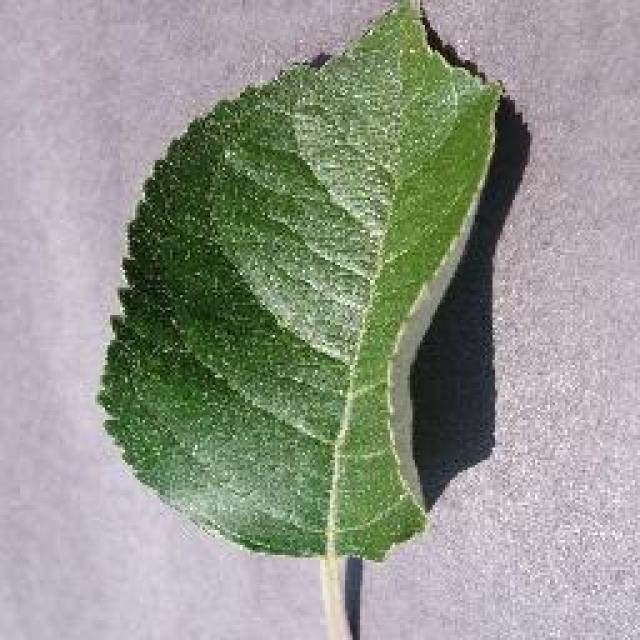apple healthy: (95, 0, 505, 565)
